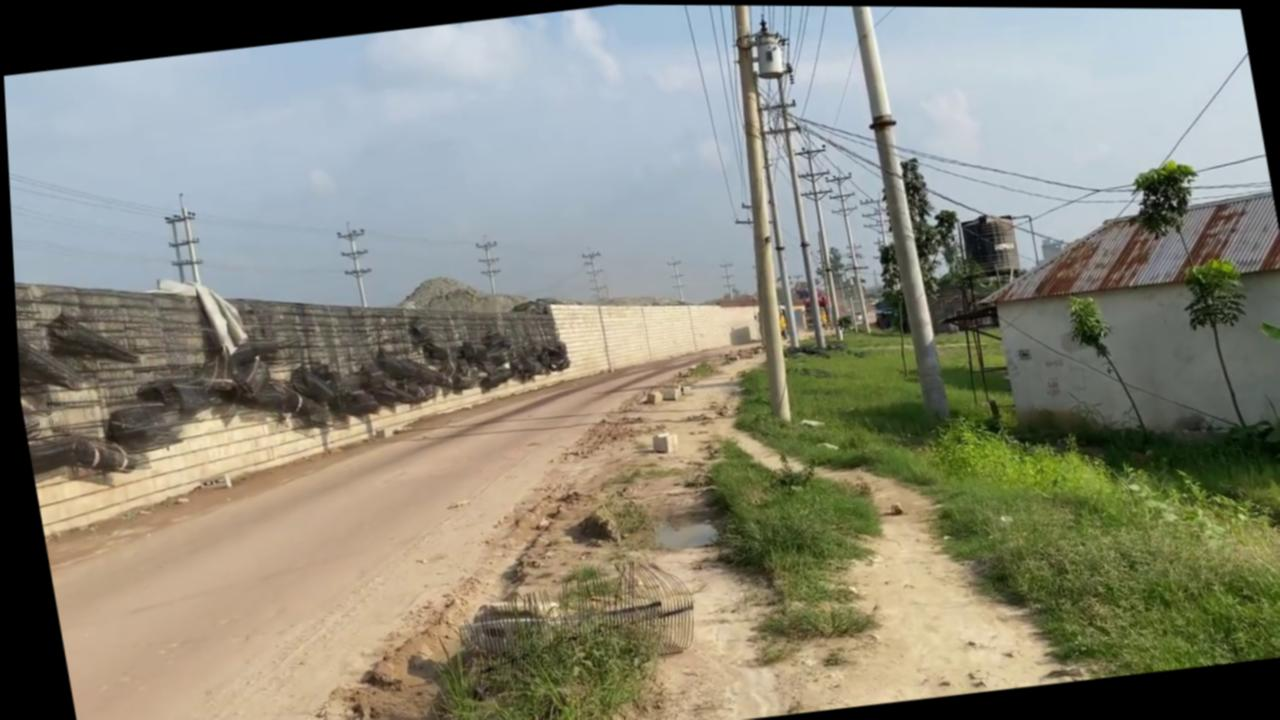Obstacle: (441, 549, 696, 680), (931, 298, 1012, 420), (645, 429, 675, 454)
Pole: (698, 4, 818, 425), (845, 5, 947, 424)
Rickshaw: (444, 318, 969, 720)
Traffic-sign: (852, 150, 973, 335), (1170, 251, 1265, 432)
Upstairs: (9, 215, 581, 488)
